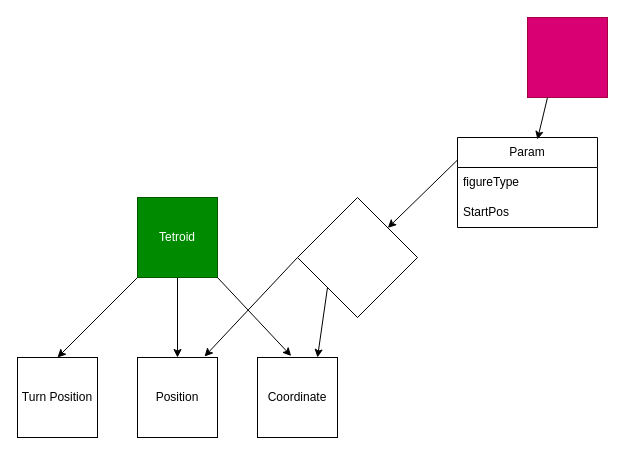
This 625x455 diagram has some shape labels left out. Here are the shapes that lost their labels. From the top down, the box of each, then its label:
(526, 16, 608, 98): Tetris
(296, 196, 418, 318): Tetris::spawnFigure
